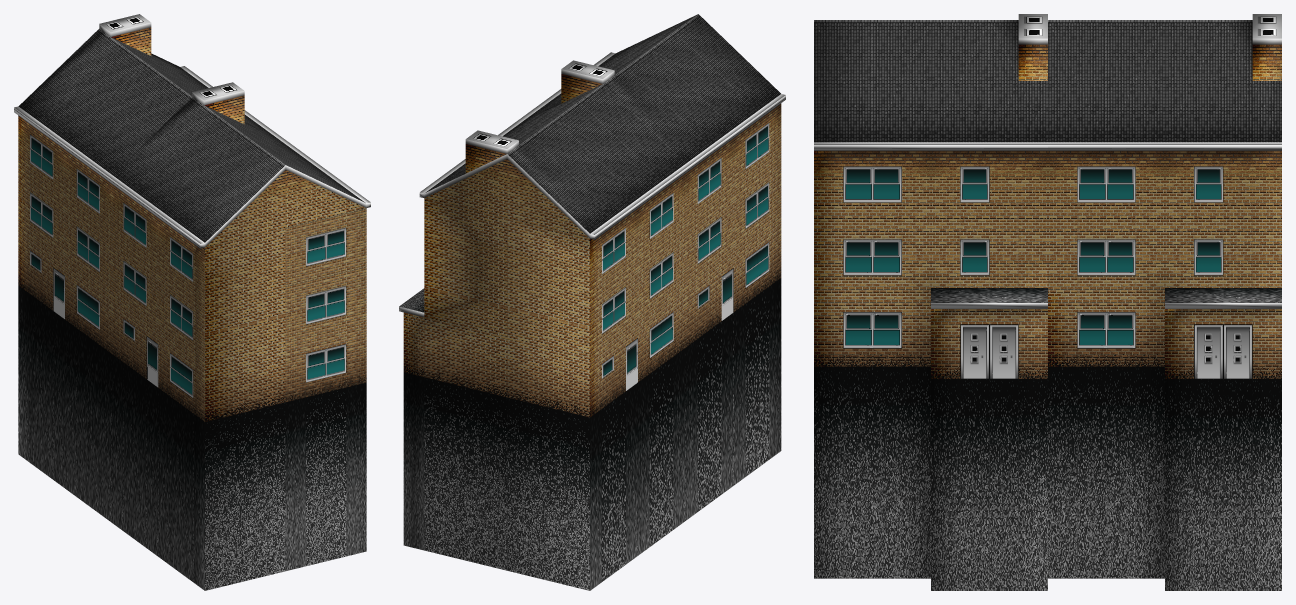
File: maisonet_mod2_2b.fbx
The picture shows the model from 3 angles, left to right: view 1: azimuth 30°, elevation 25°; view 2: azimuth 150°, elevation 25°; view 3: azimuth 270°, elevation 25°; orthographic projection. The views are drawn at different scales.
Parts seen in each view (by area): view 1: maisonet_mod2_2b; view 2: maisonet_mod2_2b; view 3: maisonet_mod2_2b.
Boxes of the visible parts, <box> form: maisonet_mod2_2b: <box>14,14,370,590</box>; maisonet_mod2_2b: <box>399,14,785,590</box>; maisonet_mod2_2b: <box>814,14,1281,590</box>.
Size of the model in its own units: 1062 by 2188 by 1800.
